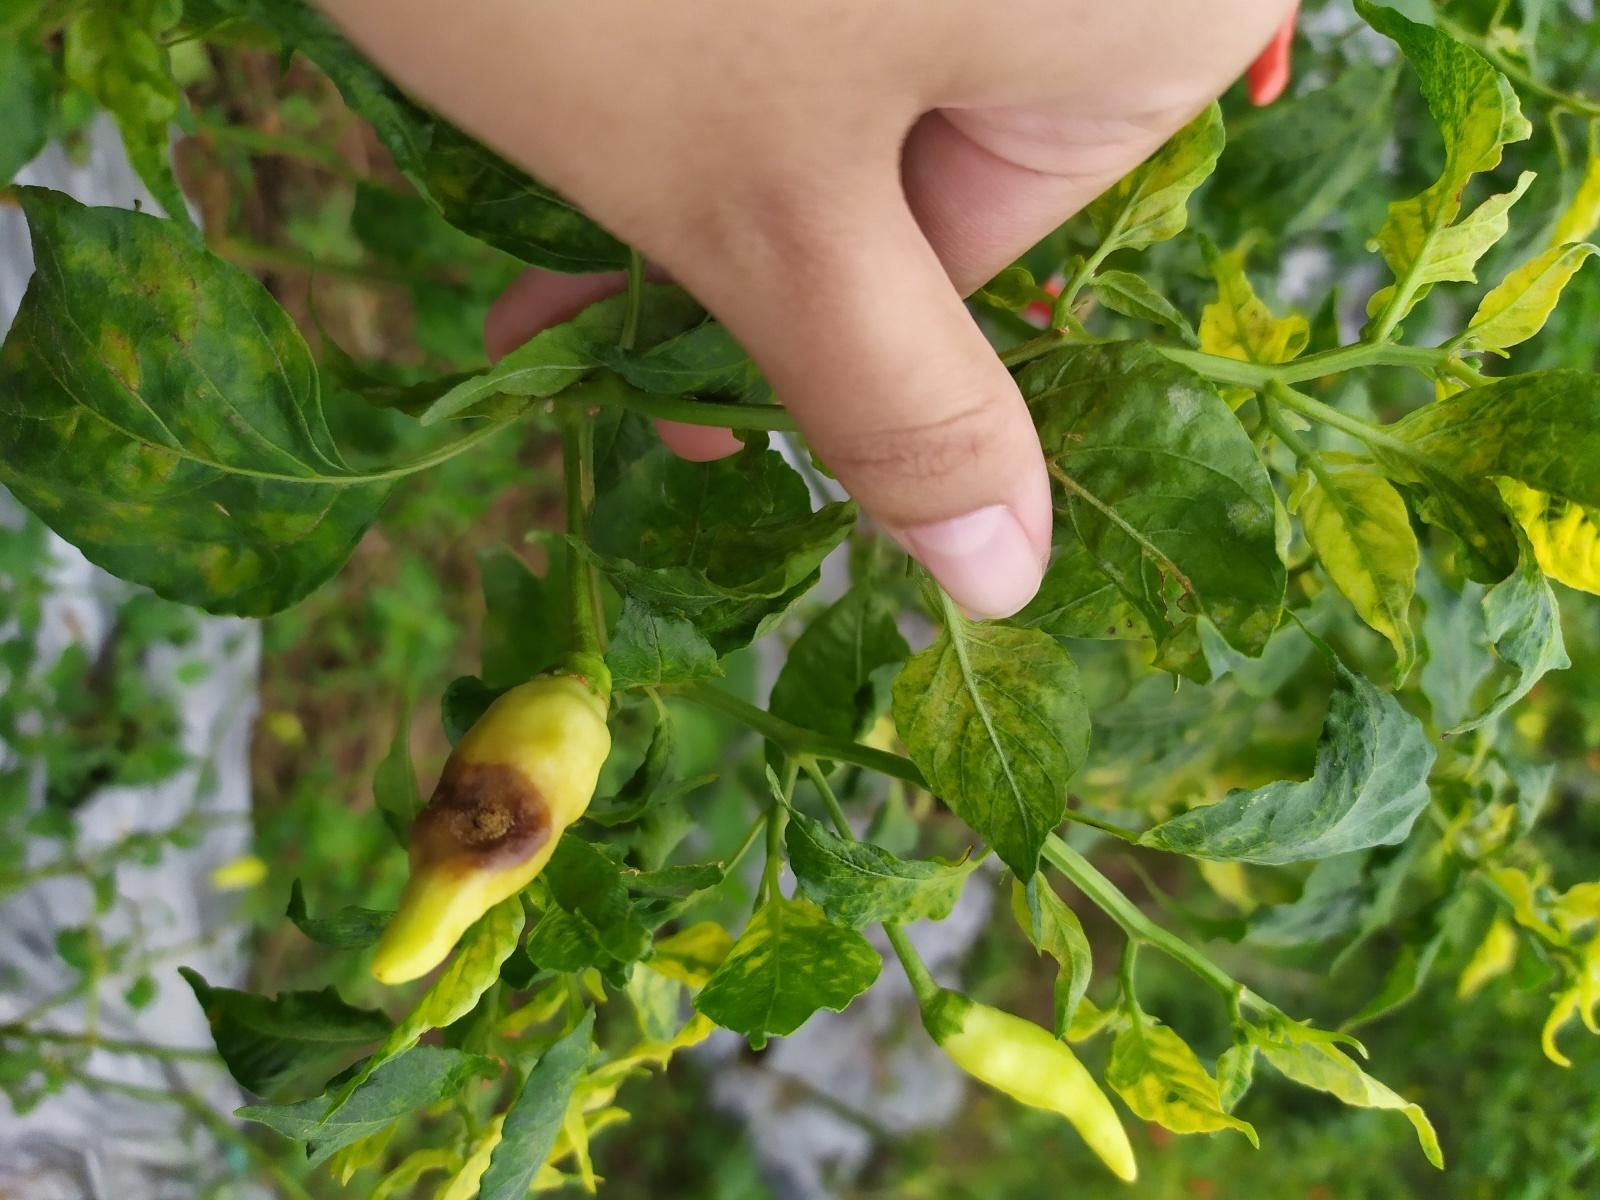antraknosa: (367, 674, 611, 984)
cabai_normal: (935, 998, 1138, 1184)
